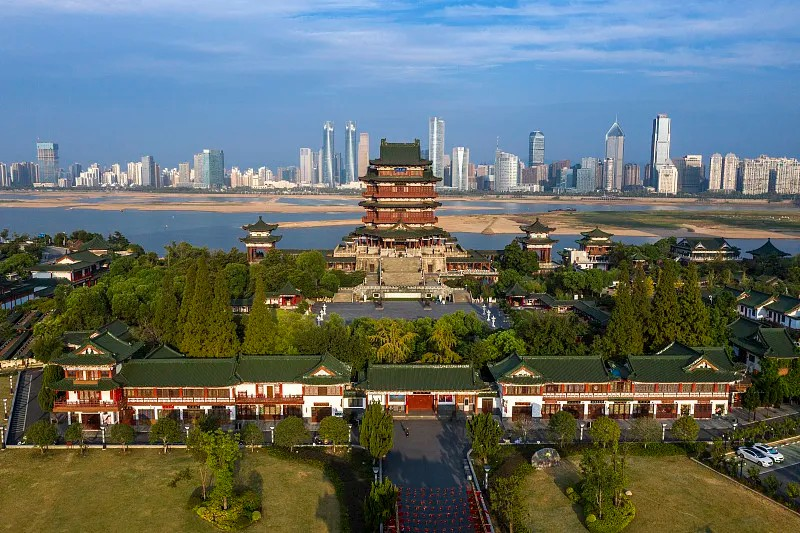Teng: (342, 139, 458, 255)
